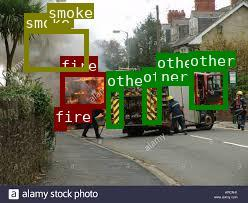fire: (60, 72, 107, 107), (53, 123, 65, 130)
other: (188, 66, 227, 108), (141, 83, 161, 124), (106, 86, 123, 128), (156, 68, 192, 85)
smoke: (23, 29, 88, 71), (47, 2, 73, 26)
